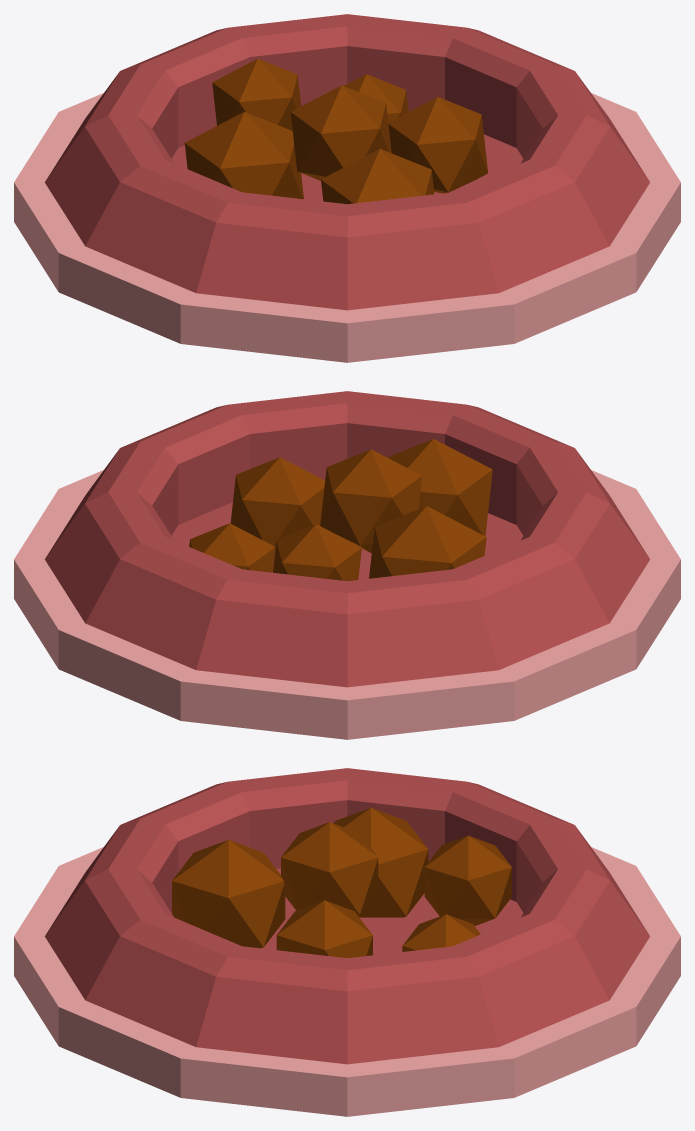
Rendered from DogsBowl.fbx.
3 views of the same model, one above another, from view 1: azimuth 30°, elevation 25°; view 2: azimuth 150°, elevation 25°; view 3: azimuth 270°, elevation 25° (orthographic).
Visible parts, largest first — view 1: Dogsbowl, Food; view 2: Dogsbowl, Food; view 3: Dogsbowl, Food.
Part boxes in pixels (<box>): Dogsbowl: <box>14,14,680,362</box>; Food: <box>184,59,487,204</box>; Dogsbowl: <box>14,391,680,739</box>; Food: <box>189,439,492,581</box>; Dogsbowl: <box>14,768,680,1116</box>; Food: <box>172,807,511,958</box>.
Bounding box in the file's own units: 41.09 × 9.97 × 41.09.
